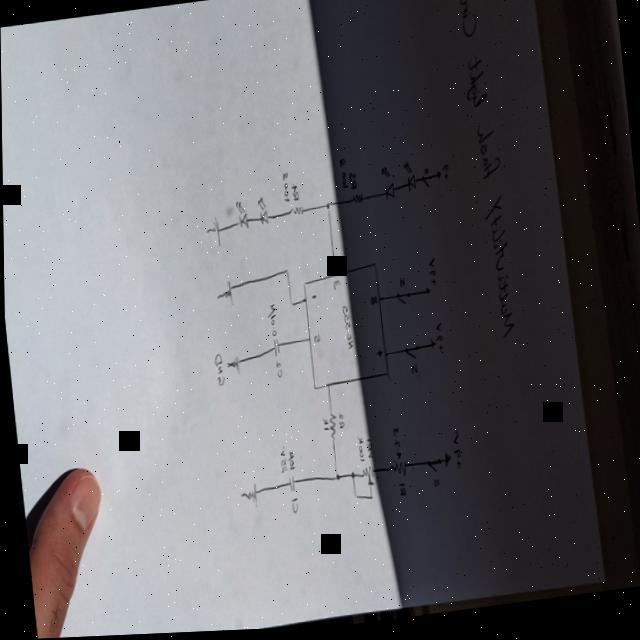capacitor: (269, 339, 279, 362), (285, 476, 293, 497)
diode: (379, 168, 395, 205), (401, 164, 416, 199), (232, 202, 248, 234), (255, 198, 268, 229)
ground: (212, 281, 233, 310), (236, 484, 257, 512), (203, 217, 220, 251), (223, 356, 239, 379)
junction: (324, 204, 330, 214), (332, 475, 338, 485), (348, 474, 353, 483), (287, 303, 292, 311), (351, 497, 356, 503), (283, 270, 287, 277), (367, 498, 371, 504)
resistor: (325, 413, 337, 447), (387, 464, 406, 484), (358, 468, 374, 491), (287, 207, 303, 220), (349, 195, 363, 209)
source: (440, 453, 450, 472), (427, 341, 434, 354), (434, 173, 440, 185), (424, 290, 430, 300)
switch: (425, 461, 441, 480), (403, 347, 418, 366), (394, 294, 409, 310), (420, 180, 430, 194)
text: (451, 0, 516, 347), (339, 307, 352, 354), (448, 432, 461, 477), (263, 305, 277, 341), (211, 354, 224, 389), (431, 325, 443, 359), (389, 429, 400, 465), (279, 172, 290, 207), (425, 261, 437, 292), (337, 160, 347, 193), (276, 446, 285, 477), (354, 438, 363, 466), (283, 453, 294, 474), (288, 185, 299, 206), (272, 362, 282, 382), (287, 499, 297, 519), (347, 175, 357, 195), (439, 167, 449, 187), (362, 441, 371, 463), (335, 413, 343, 432), (395, 485, 404, 501), (407, 367, 417, 380), (368, 297, 377, 311), (311, 333, 319, 348), (373, 351, 382, 363), (320, 419, 327, 434), (331, 283, 340, 294), (307, 295, 316, 304), (431, 482, 438, 493), (397, 282, 404, 292), (422, 172, 428, 180)
